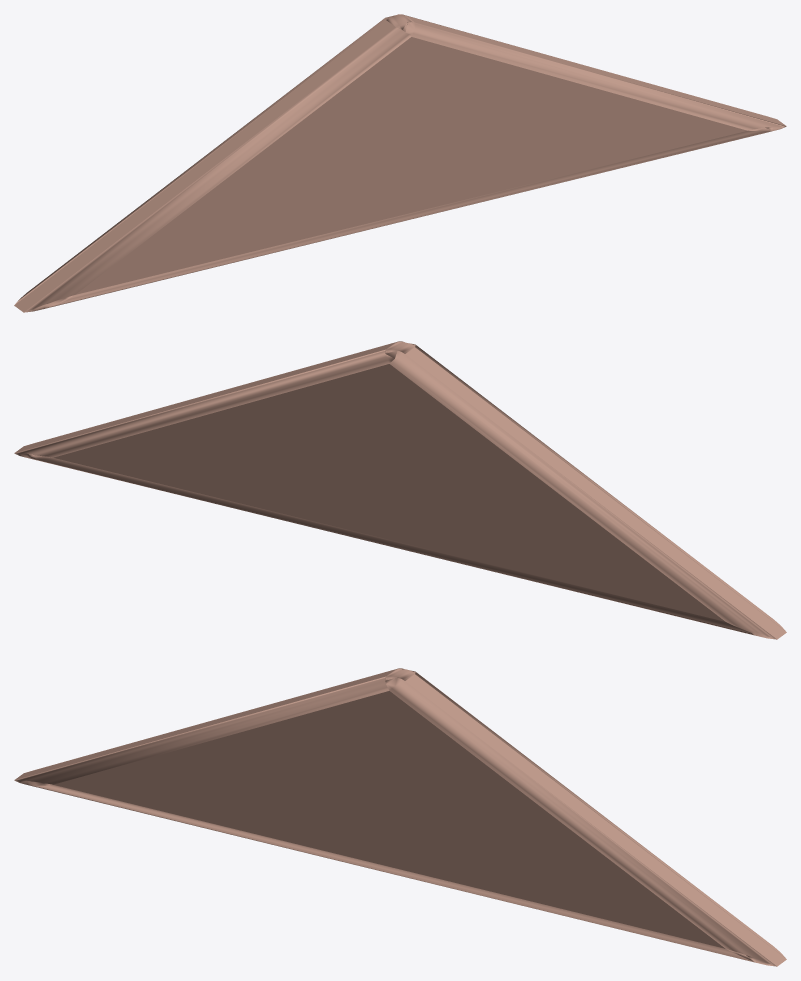
File: Gable.glb
3 views of the same model, one above another, from view 1: azimuth 30°, elevation 25°; view 2: azimuth 150°, elevation 25°; view 3: azimuth 330°, elevation 25° (orthographic).
Visible parts, largest first — view 1: PBK_gable.003; view 2: PBK_gable.003; view 3: PBK_gable.003.
Part boxes in pixels (left/top/right/bottom): PBK_gable.003: left=14, top=14, right=786, bottom=312; PBK_gable.003: left=14, top=341, right=786, bottom=639; PBK_gable.003: left=14, top=668, right=786, bottom=966.
Size of the model in its own units: 4 by 0.9848 by 0.2.
